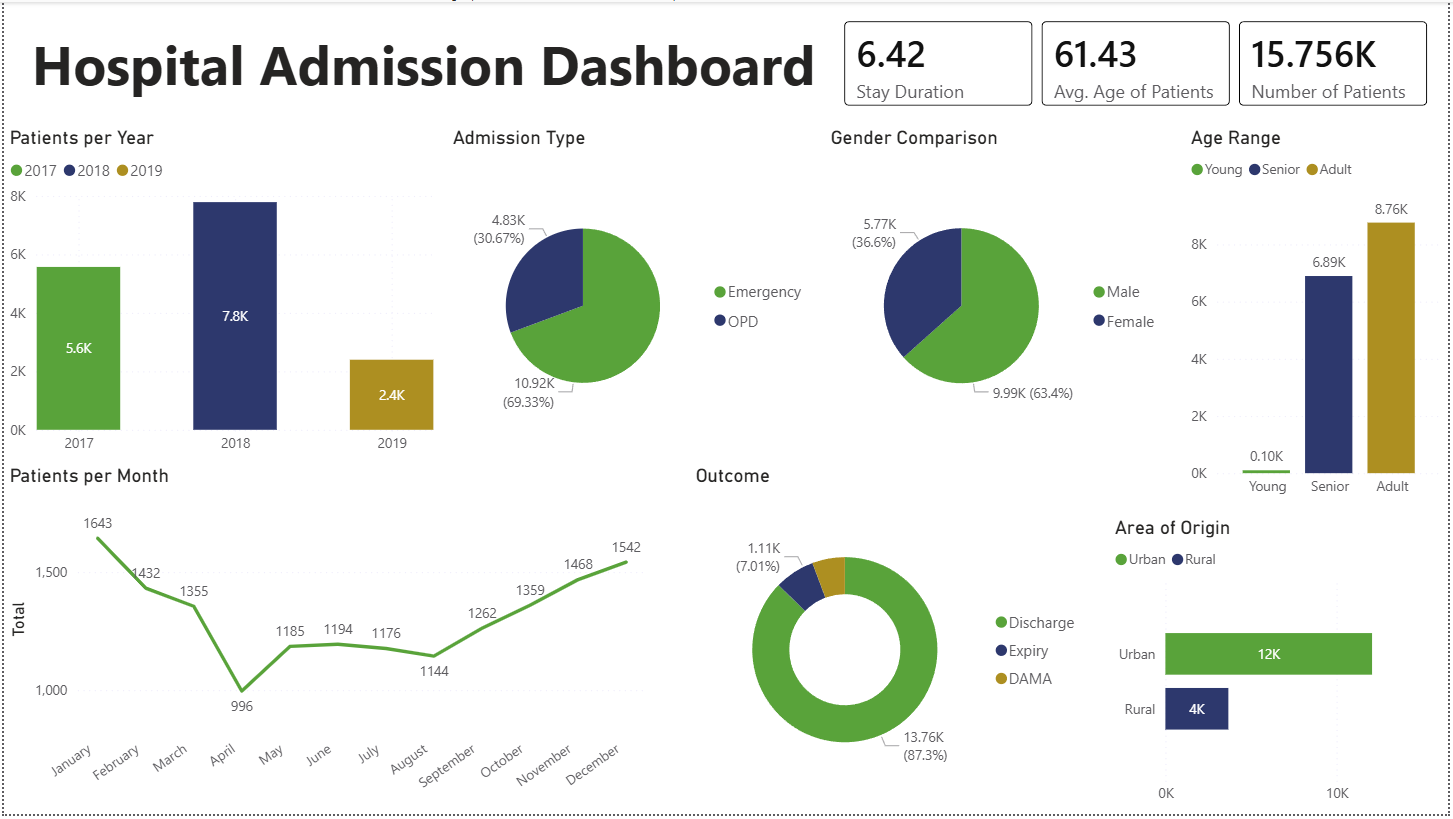

The dashboard page shown, as its layout file describes it:
{"tool":"powerbi","page":{"name":"Page 1","canvas":[1280,720],"ordinal":0},"visuals":[{"type":"barChart","title":"Area of Origin","fields":{"Category":["HDHI Admission data.Area of Origin"],"Series":["HDHI Admission data.Area of Origin"],"Y":["CountNonNull(HDHI Admission data.Area of Origin)"]},"box":[979.8,455.8,292.6,264.2],"z":0},{"type":"columnChart","title":"Age Range","fields":{"Category":["HDHI Admission data.Life Stage"],"Y":["CountNonNull(HDHI Admission data.Life Stage)"],"Series":["HDHI Admission data.Life Stage"]},"box":[1047.2,110,233.2,337.8],"z":1000},{"type":"cardVisual","fields":{"Data":["Avg(HDHI Admission data.DURATION OF STAY)","Avg(HDHI Admission data.AGE)","CountNonNull(HDHI Admission data.MRD No.)"]},"box":[727.5,0,552.5,109.9],"z":2000},{"type":"columnChart","title":"Patients per Year","fields":{"Category":["HDHI Admission data.month year.Variation.Date Hierarchy.Year"],"Y":["CountNonNull(HDHI Admission data.MRD No.)"],"Series":["HDHI Admission data.month year.Variation.Date Hierarchy.Year"]},"box":[0,110,385.7,299.7],"z":3000},{"type":"lineChart","title":"Patients per Month","fields":{"Category":["HDHI Admission data.month year.Variation.Date Hierarchy.Month"],"Y":["CountNonNull(HDHI Admission data.MRD No.)"]},"box":[0,409.7,573.7,310.3],"z":4000},{"type":"pieChart","title":"Admission Type","fields":{"Category":["HDHI Admission data.TYPE OF ADMISSION-EMERGENCY/OPD"],"Y":["CountNonNull(HDHI Admission data.TYPE OF ADMISSION-EMERGENCY/OPD)"]},"box":[392.8,110,328.1,299.7],"z":5000},{"type":"pieChart","title":"Gender Comparison","fields":{"Category":["HDHI Admission data.GENDER"],"Y":["CountNonNull(HDHI Admission data.GENDER)"]},"box":[728,110,306.8,299.7],"z":6000},{"type":"donutChart","title":"Outcome","fields":{"Category":["HDHI Admission data.OUTCOME"],"Y":["CountNonNull(HDHI Admission data.OUTCOME)"]},"box":[608.3,409.7,355.6,310.3],"z":7000},{"type":"textbox","box":[0,0,744.1,109.9],"z":8000}]}

Visuals, with their boxes in screenshot pixels (x1, y1, x2, y2), scaled from the page's 1280x720 canvas onto the 1453x819 screenshot:
"Area of Origin" barChart: pyautogui.locateOnScreen(1112, 518, 1444, 818)
"Age Range" columnChart: pyautogui.locateOnScreen(1189, 125, 1452, 509)
cardVisual - Avg(HDHI Admission data.DURATION OF STAY) x Avg(HDHI Admission data.AGE): pyautogui.locateOnScreen(826, 0, 1452, 125)
"Patients per Year" columnChart: pyautogui.locateOnScreen(0, 125, 438, 466)
"Patients per Month" lineChart: pyautogui.locateOnScreen(0, 466, 651, 818)
"Admission Type" pieChart: pyautogui.locateOnScreen(446, 125, 818, 466)
"Gender Comparison" pieChart: pyautogui.locateOnScreen(826, 125, 1175, 466)
"Outcome" donutChart: pyautogui.locateOnScreen(691, 466, 1094, 818)
textbox: pyautogui.locateOnScreen(0, 0, 845, 125)
